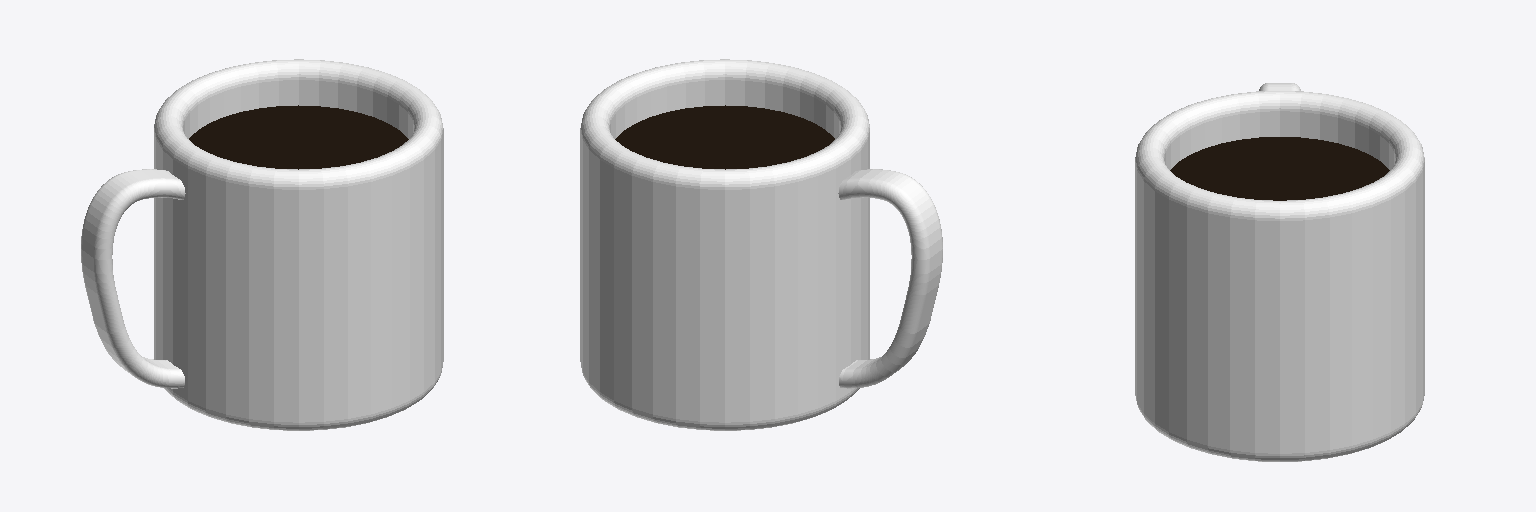
File: Coffee Cup.obj
The picture shows the model from 3 angles: view 1: azimuth 30°, elevation 25°; view 2: azimuth 150°, elevation 25°; view 3: azimuth 270°, elevation 25°; orthographic projection.
Parts seen in each view (by area): view 1: Round, Design, Liquid, Handle.1; view 2: Design, Round, Liquid, Handle.1; view 3: Design, Round, Liquid.
Boxes of the visible parts, <box> form: Round: <box>154,59,443,430</box>; Design: <box>154,132,433,422</box>; Liquid: <box>189,105,408,169</box>; Handle.1: <box>81,169,185,388</box>; Design: <box>580,129,869,422</box>; Round: <box>580,59,869,430</box>; Liquid: <box>615,105,834,169</box>; Handle.1: <box>838,169,942,388</box>; Design: <box>1135,162,1423,453</box>; Round: <box>1135,91,1424,461</box>; Liquid: <box>1170,137,1389,200</box>.
Size of the model in its own units: 146 by 108 by 109.